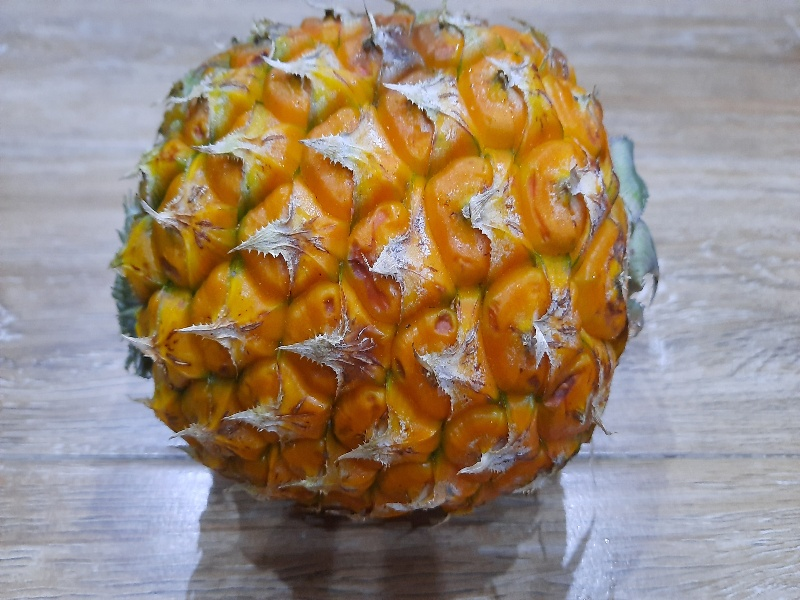fruit: (116, 13, 651, 542)
